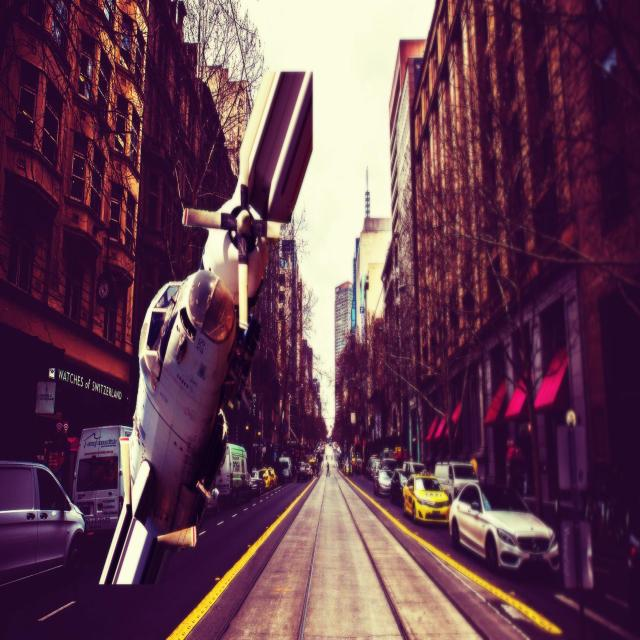airplane: (98, 68, 314, 586)
